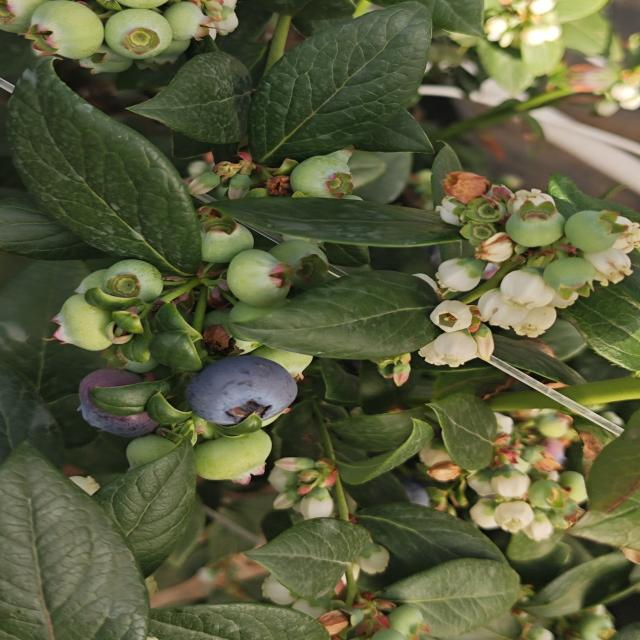ripe: (178, 349, 307, 432), (65, 363, 171, 443), (395, 475, 439, 514)
